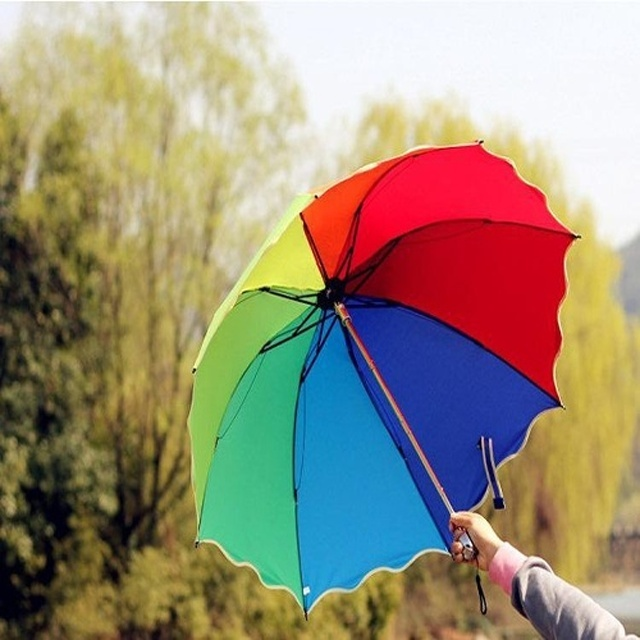umbrella: (182, 140, 584, 622)
